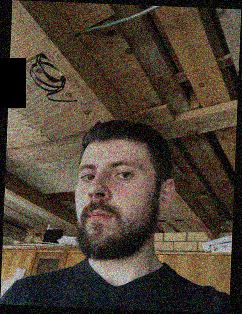without_mask: (76, 152, 151, 262)
